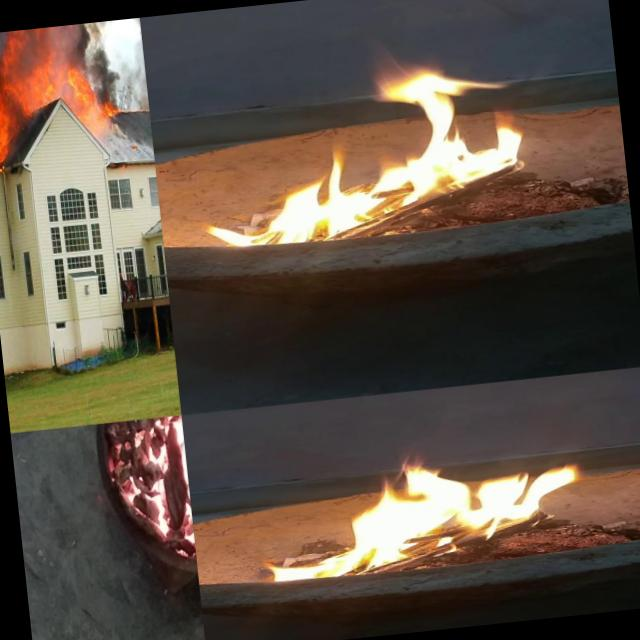fire: (190, 52, 536, 254), (248, 430, 600, 588), (0, 21, 109, 147), (119, 415, 197, 576)
